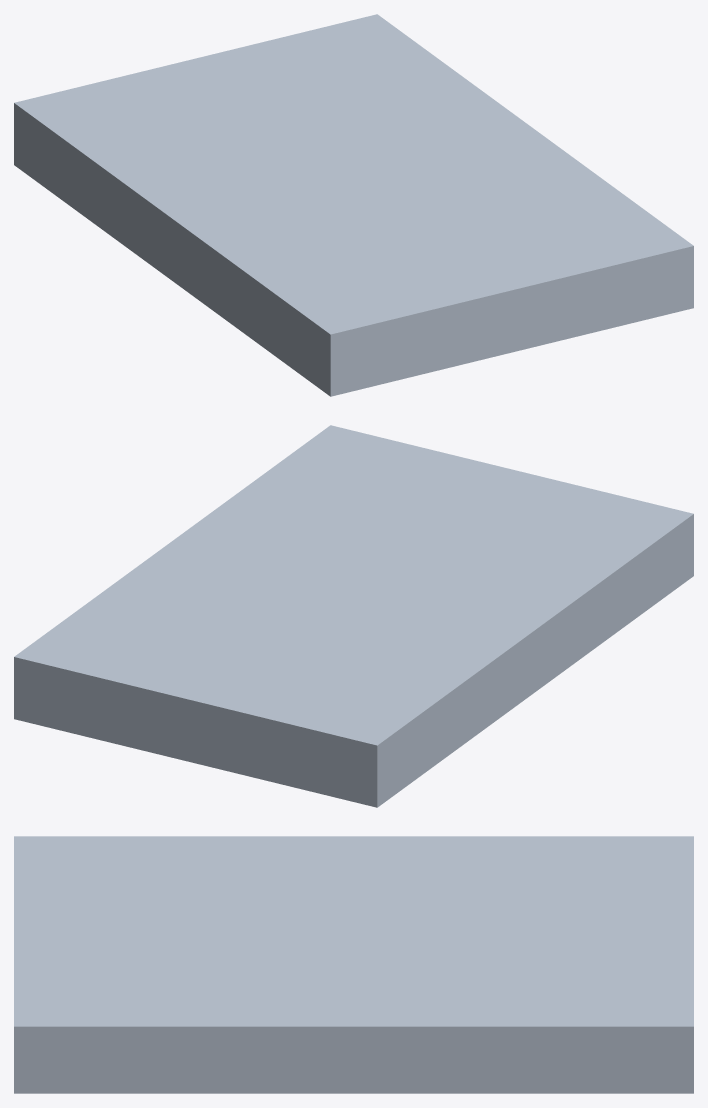
The model's file is bkz_noob.glb.
3 renders of one model, top to bottom at view 1: azimuth 30°, elevation 25°; view 2: azimuth 150°, elevation 25°; view 3: azimuth 270°, elevation 25°, orthographic. The views are drawn at different scales.
Parts seen in each view (by area): view 1: bkz_noob_sky; view 2: bkz_noob_sky; view 3: bkz_noob_sky.
Boxes of the visible parts, left/top/right/bottom form: bkz_noob_sky: left=14, top=14, right=693, bottom=396; bkz_noob_sky: left=14, top=425, right=693, bottom=807; bkz_noob_sky: left=14, top=836, right=693, bottom=1093.
Bounding box in the file's own units: 44.7 × 7.32 × 67.46.
